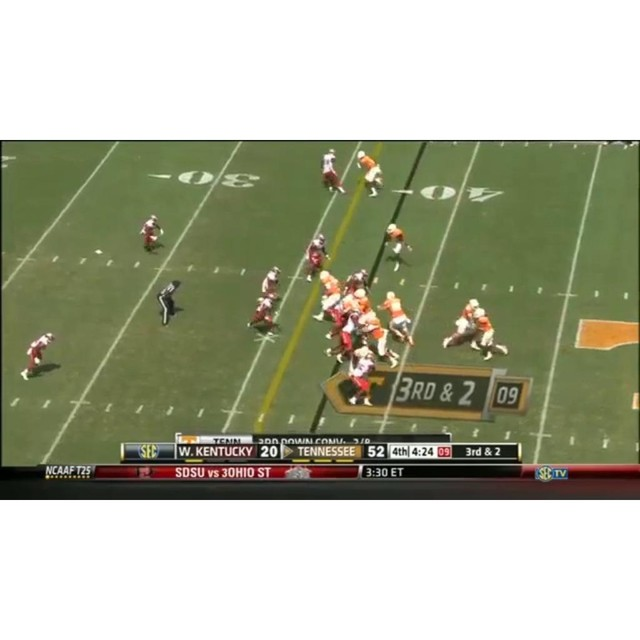american-football-player: (361, 313, 399, 369), (324, 307, 361, 364), (441, 298, 480, 350), (472, 308, 509, 362), (380, 291, 415, 346), (21, 332, 54, 380), (349, 353, 378, 406), (383, 223, 412, 272), (248, 292, 281, 335), (355, 150, 384, 198), (317, 270, 343, 321), (304, 233, 330, 282), (321, 148, 346, 194), (139, 215, 164, 254), (260, 266, 282, 297)
referee: (156, 279, 182, 328)
